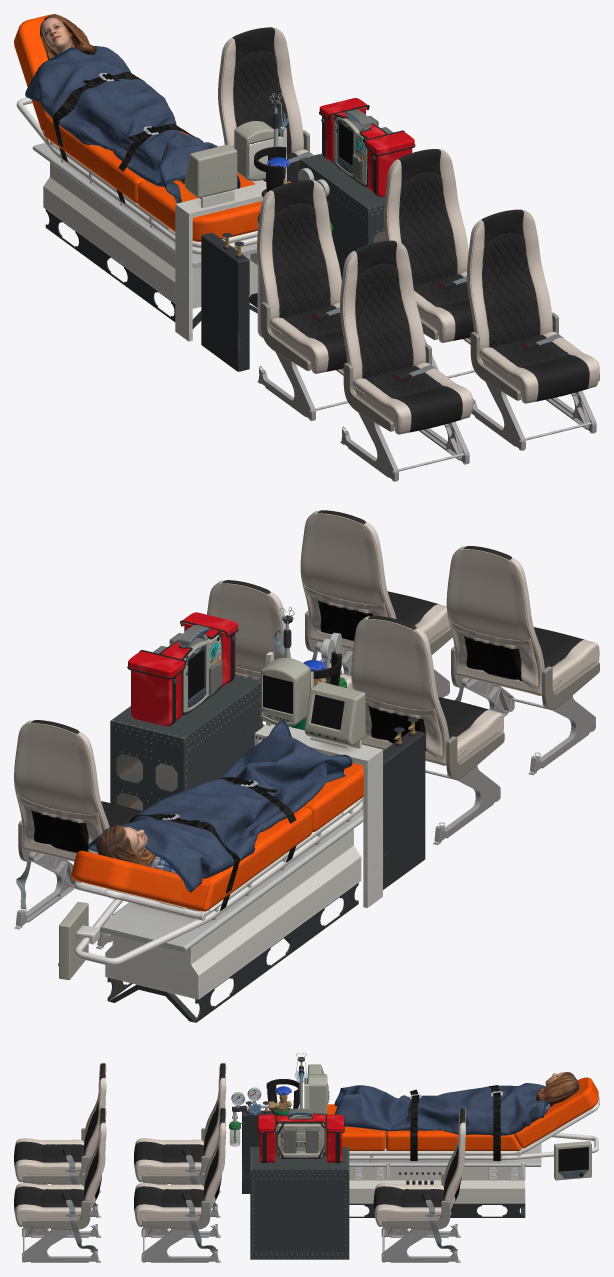
File: Chair_Medevac_Single.gltf
3 views of the same model, one above another, from view 1: azimuth 30°, elevation 25°; view 2: azimuth 150°, elevation 25°; view 3: azimuth 270°, elevation 25° (orthographic). The views are drawn at different scales.
Visible parts, largest first — view 1: MED_Cube.001, MED_Plane.002, MED_Plane.005, MED_Plane.001, MED_MedBlanket, MED_Plane.003, MED_Plane.006, MED_Circle.579, MED_Plane.216, MED_fig0043_Mesh_Apply; view 2: MED_Cube.001, MED_Plane.002, MED_Plane.001, MED_MedBlanket, MED_Plane.006, MED_Plane.216, MED_Plane.005, MED_Circle.579, MED_Plane.003, MED_fig0043_Mesh_Apply; view 3: MED_Cube.001, MED_Plane.216, MED_MedBlanket, MED_Plane.006, MED_Plane.003, MED_Plane.005, MED_Plane.002, MED_Plane.001, MED_Circle.579, MED_fig0043_Mesh_Apply, MED_Cube.003.
Boxes of the visible parts, box(x1,y1,x2,y2) form: MED_Cube.001: box(14, 14, 332, 371); MED_Plane.002: box(340, 240, 472, 481); MED_Plane.005: box(466, 209, 599, 450); MED_Plane.001: box(257, 180, 348, 421); MED_MedBlanket: box(25, 46, 240, 203); MED_Plane.003: box(384, 149, 474, 378); MED_Plane.006: box(218, 27, 313, 184); MED_Circle.579: box(319, 98, 415, 196); MED_Plane.216: box(299, 153, 386, 280); MED_fig0043_Mesh_Apply: box(40, 14, 184, 183); MED_Cube.001: box(58, 607, 425, 1022); MED_Plane.002: box(446, 546, 599, 775); MED_Plane.001: box(351, 615, 504, 845); MED_MedBlanket: box(88, 720, 352, 892); MED_Plane.006: box(14, 720, 142, 949); MED_Plane.216: box(110, 674, 262, 810); MED_Plane.005: box(300, 510, 452, 697); MED_Circle.579: box(127, 612, 238, 726); MED_Plane.003: box(207, 580, 352, 726); MED_fig0043_Mesh_Apply: box(96, 825, 250, 873); MED_Cube.001: box(229, 1051, 599, 1217); MED_Plane.216: box(250, 1147, 349, 1259); MED_MedBlanket: box(334, 1083, 546, 1135); MED_Plane.006: box(373, 1108, 465, 1262); MED_Plane.003: box(134, 1108, 226, 1262); MED_Plane.005: box(14, 1108, 106, 1262); MED_Plane.002: box(14, 1063, 106, 1217); MED_Plane.001: box(134, 1063, 226, 1217); MED_Circle.579: box(257, 1108, 344, 1163); MED_fig0043_Mesh_Apply: box(536, 1072, 579, 1114); MED_Cube.003: box(230, 1069, 307, 1146).
Bounding box in the file's own units: 1.27 × 1.21 × 3.91.
